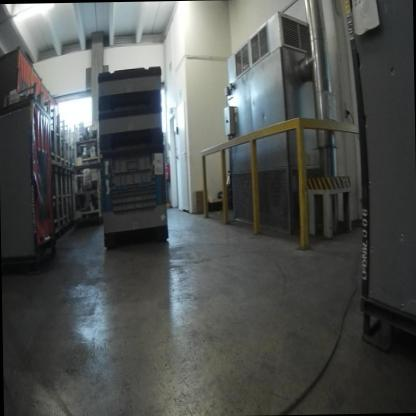stillage: (66, 162, 103, 231), (70, 114, 101, 161)
